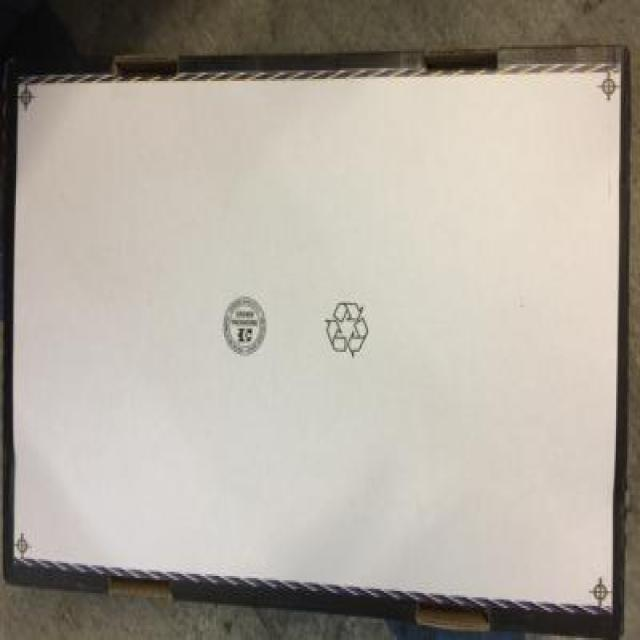PaperCardboard: (11, 51, 629, 640)
